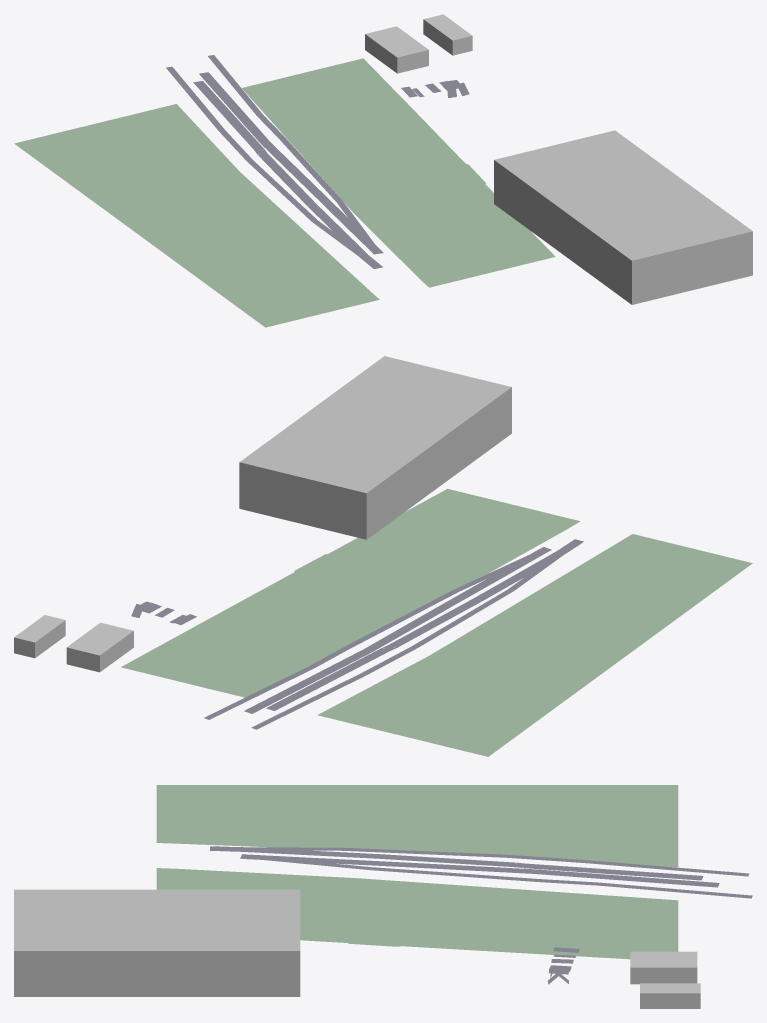
File: 94_105_mid.glb
3 renders of one model, top to bottom at view 1: azimuth 30°, elevation 25°; view 2: azimuth 150°, elevation 25°; view 3: azimuth 270°, elevation 25°, orthographic. The views are drawn at different scales.
Size of the model in its own units: 505 by 49.87 by 708.
